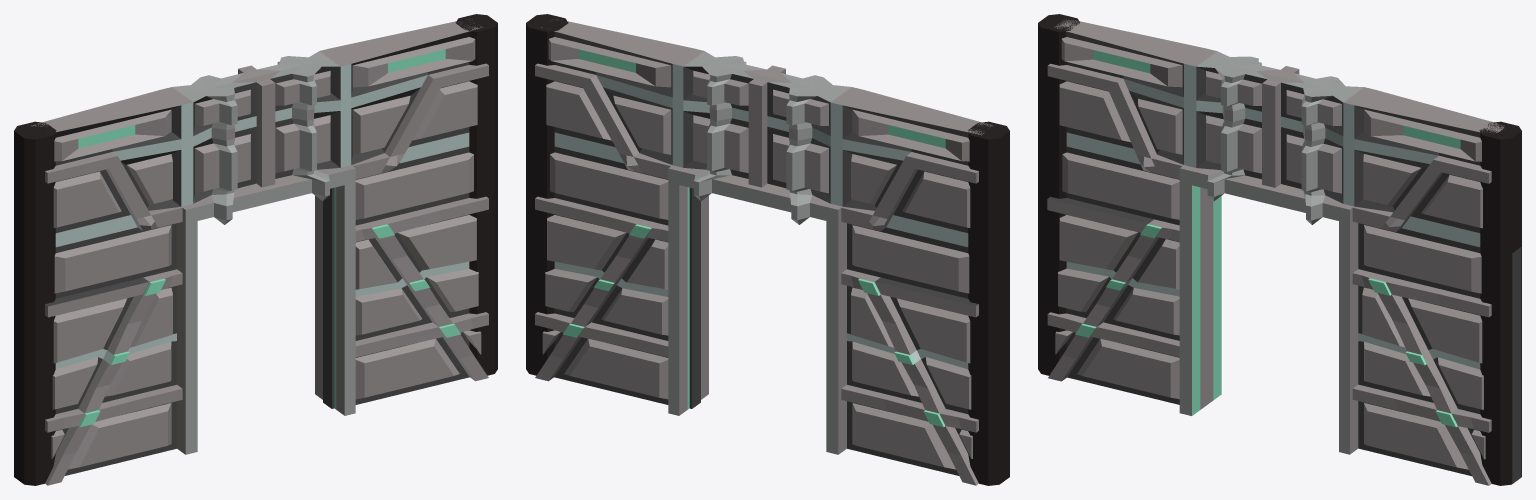
The model's file is doorAnimation.fbx.
The picture shows the model from 3 angles, left to right: view 1: azimuth 30°, elevation 25°; view 2: azimuth 150°, elevation 25°; view 3: azimuth 330°, elevation 25°; orthographic projection.
Parts seen in each view (by area): view 1: door.001, Cube; view 2: door.001, Cube; view 3: door.001, Cube.
Part boxes in pixels (left/top/right/bottom): door.001: left=14, top=14, right=497, bottom=485; Cube: left=323, top=188, right=334, bottom=408; door.001: left=526, top=14, right=1009, bottom=485; Cube: left=689, top=188, right=700, bottom=408; door.001: left=1038, top=14, right=1521, bottom=485; Cube: left=1512, top=247, right=1521, bottom=483.
Size of the model in its own units: 429 by 301 by 67.38.
